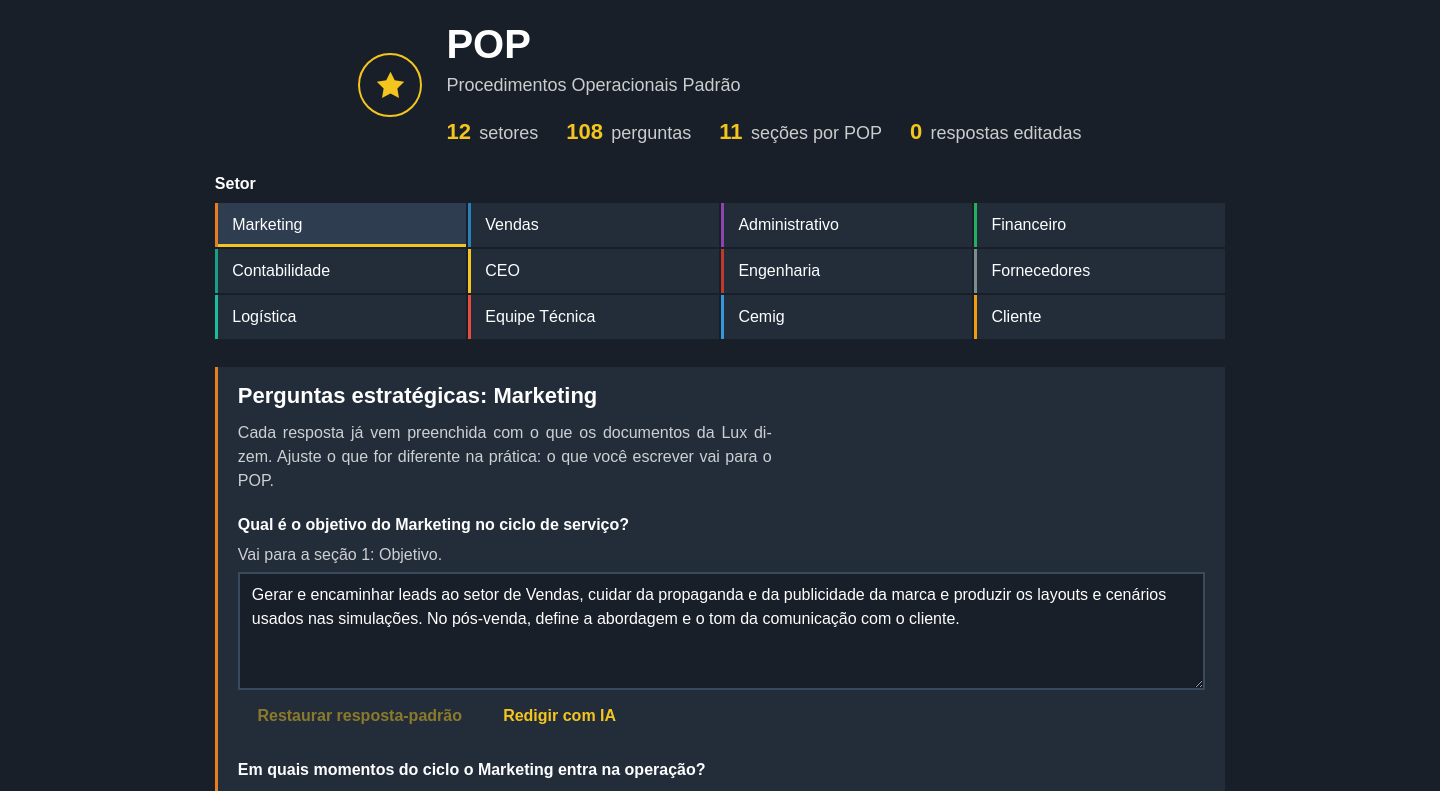
Test: geração do POP na tela › gera o POP do setor com as 11 seções, a 11 por último
Click the button "Vendas" at (593, 225), box x1=468 y1=203 x2=719 y2=247
(page scrolled)
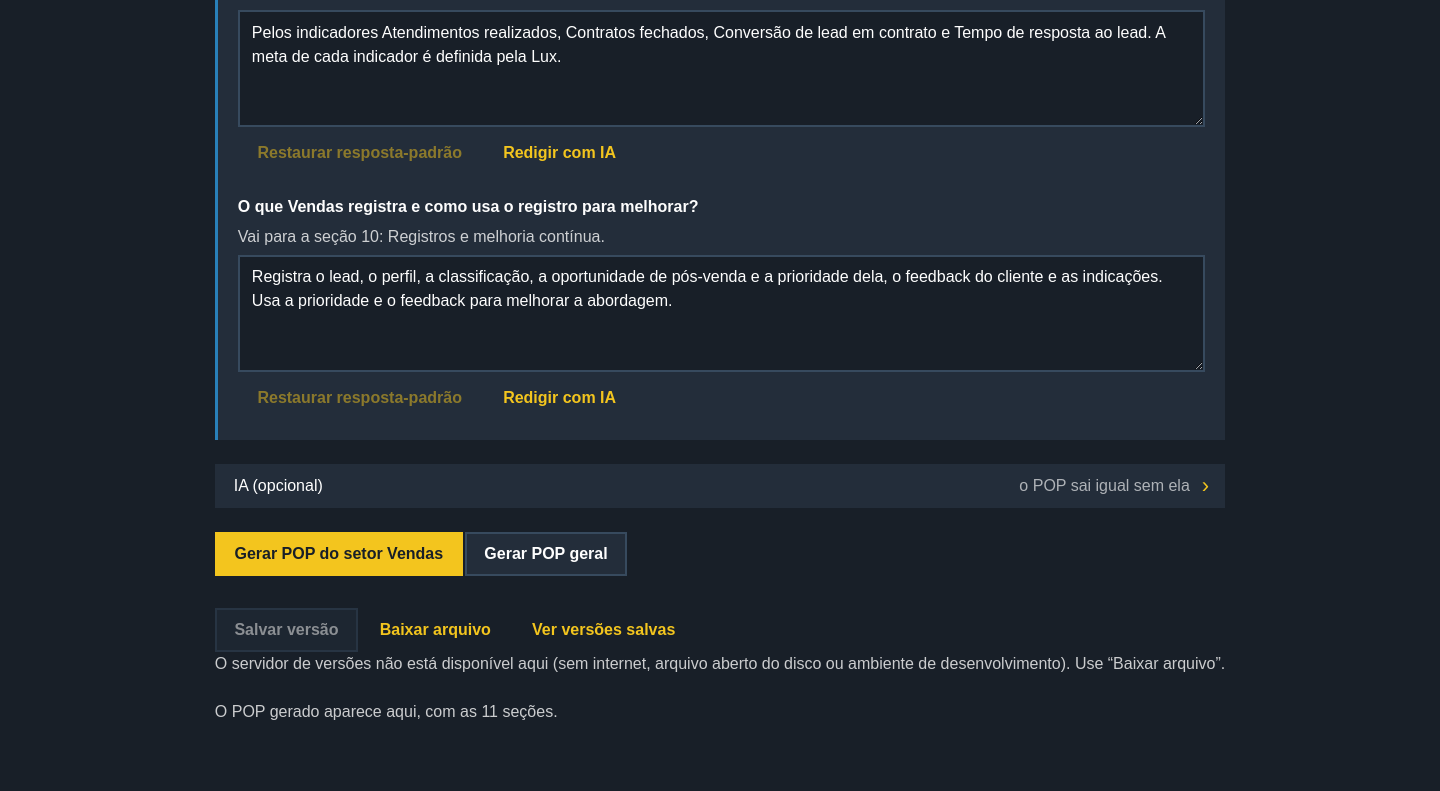
Click the button "Gerar POP do setor Vendas" at (339, 554), box x1=215 y1=532 x2=463 y2=576
(page scrolled)
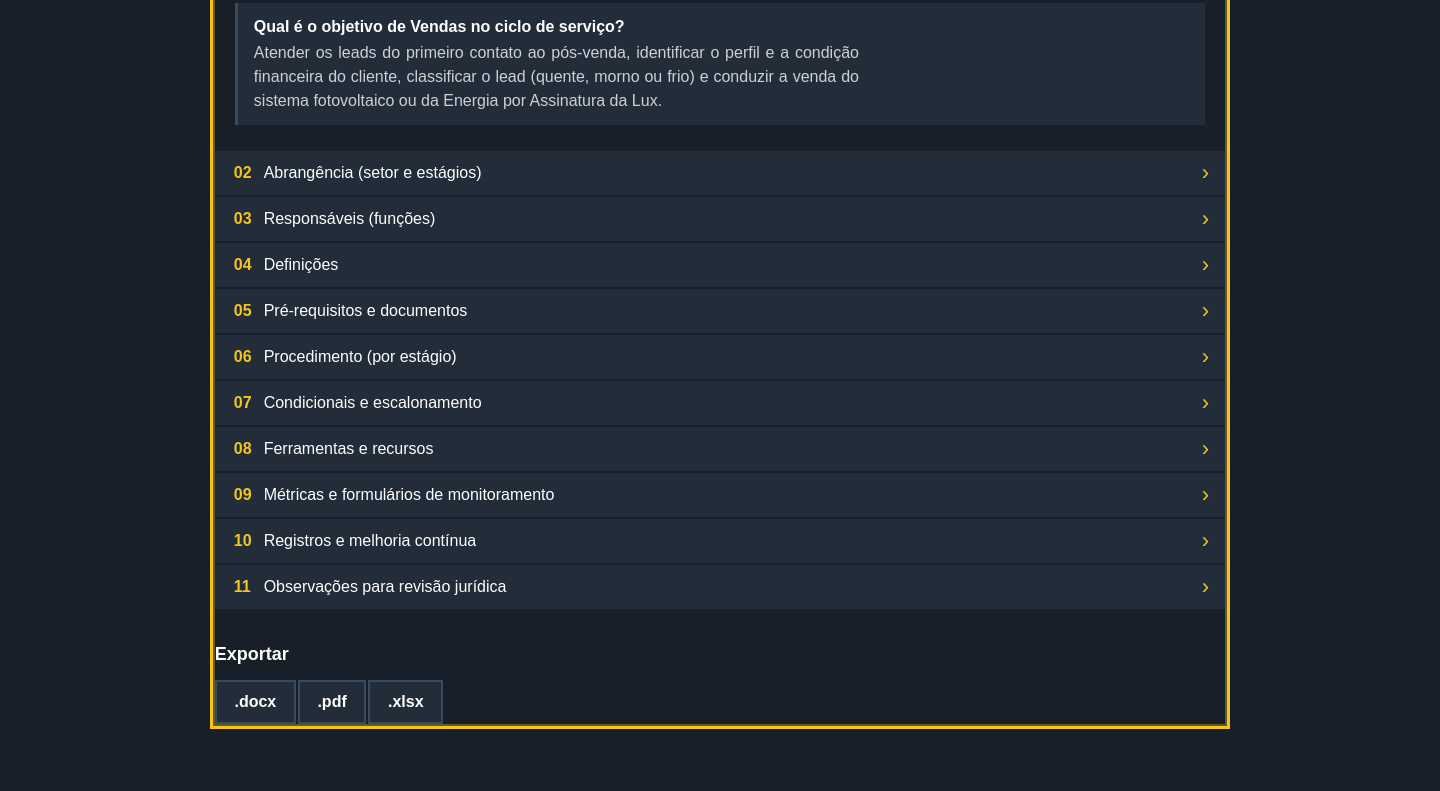
Now the heading "11 Observações para revisão jurídica ›" is shown, box x1=215 y1=565 x2=1225 y2=609
